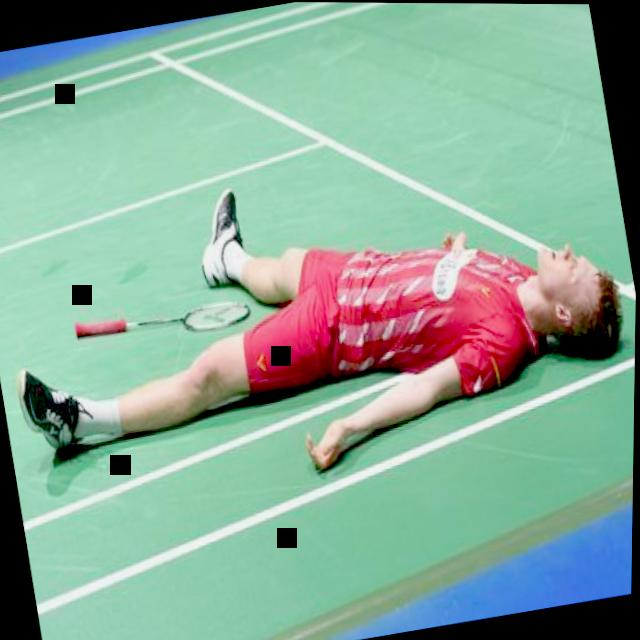Fall-Detected: (0, 98, 639, 524)
